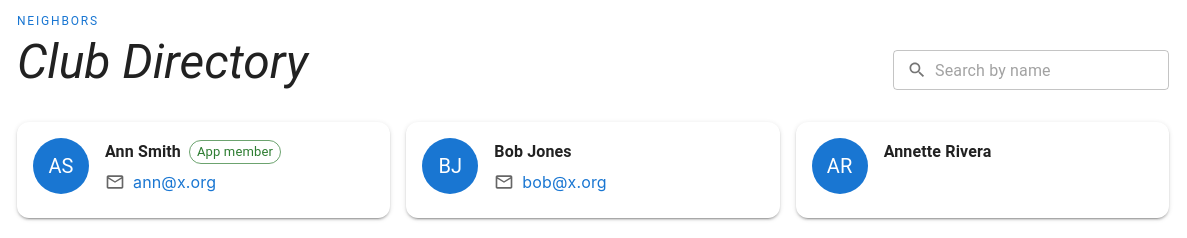
Scenario: Directory page search › filters by name, case-insensitively, as you type
Expected: the heading "Bob Jones" is shown, [494,138,572,166]
Type "ANN" into the field named "search the directory" at (1052,70), box [935,50,1169,90]
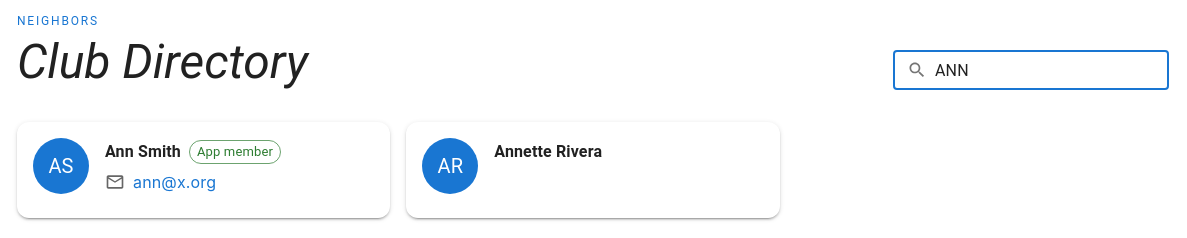
Expected: the heading "Ann Smith" is shown, [105,138,181,166]
Now the heading "Bob Jones" is gone
Clear the field named "search the directory" at (1052,70), box [935,50,1169,90]
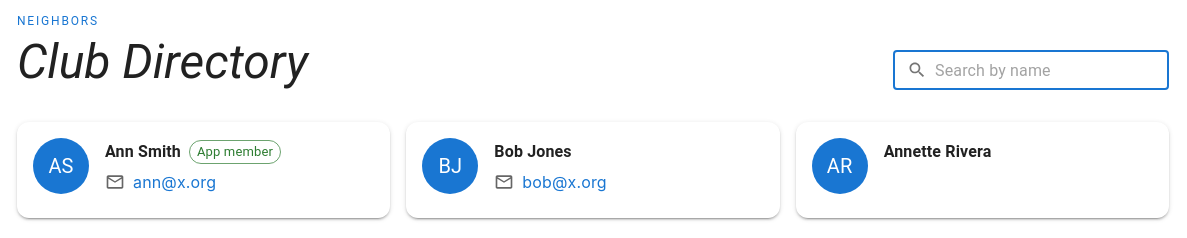
Now the heading "Bob Jones" is shown, box [494,138,572,166]
